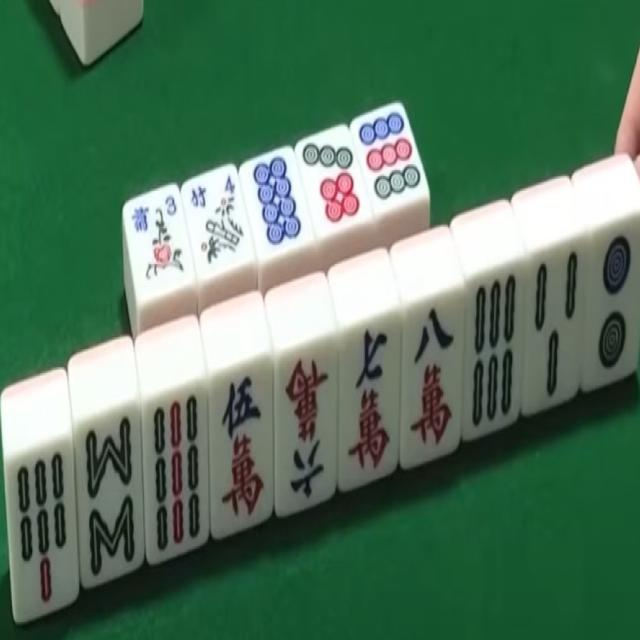f3: (122, 186, 192, 300)
f4: (185, 165, 252, 275)
m5: (206, 365, 274, 522)
m6: (272, 348, 339, 511)
m7: (343, 320, 397, 474)
m8: (405, 299, 460, 454)
s3: (526, 249, 579, 401)
s6: (470, 270, 522, 434)
s7: (6, 444, 73, 607)
s8: (77, 410, 139, 587)
s9: (142, 392, 210, 564)
t2: (580, 229, 639, 384)
t7: (293, 126, 368, 232)
t8: (243, 150, 312, 259)
t9: (350, 100, 428, 212)
